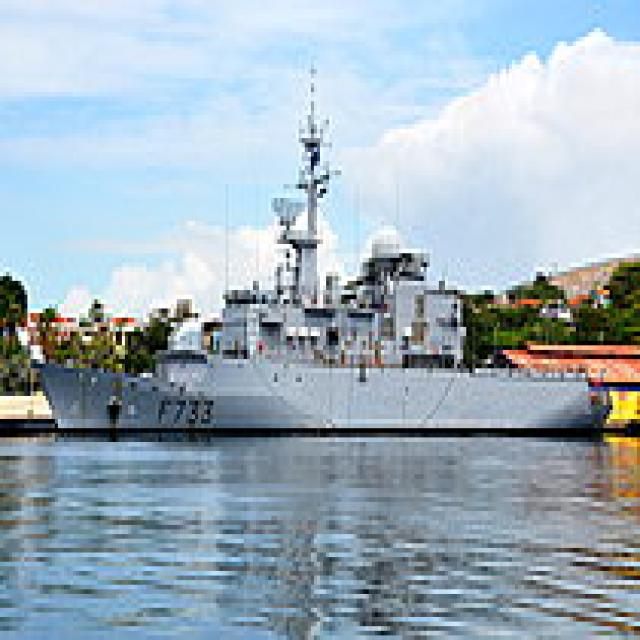Warship: (25, 46, 612, 433)
